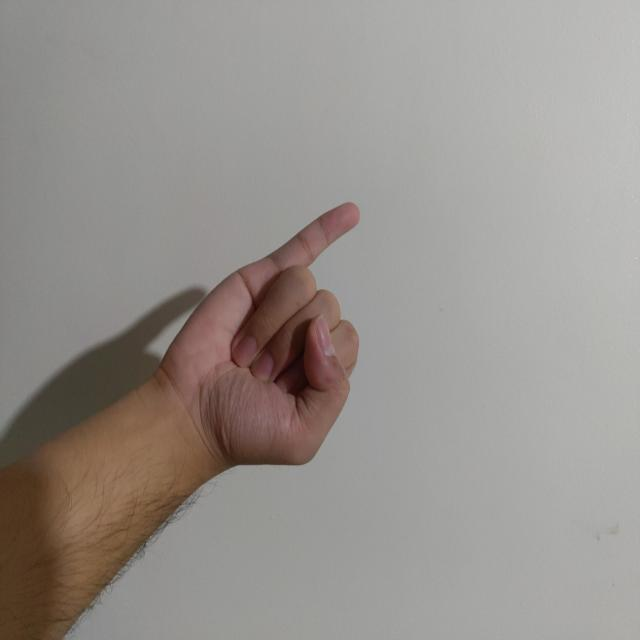I: (201, 276, 467, 483)
